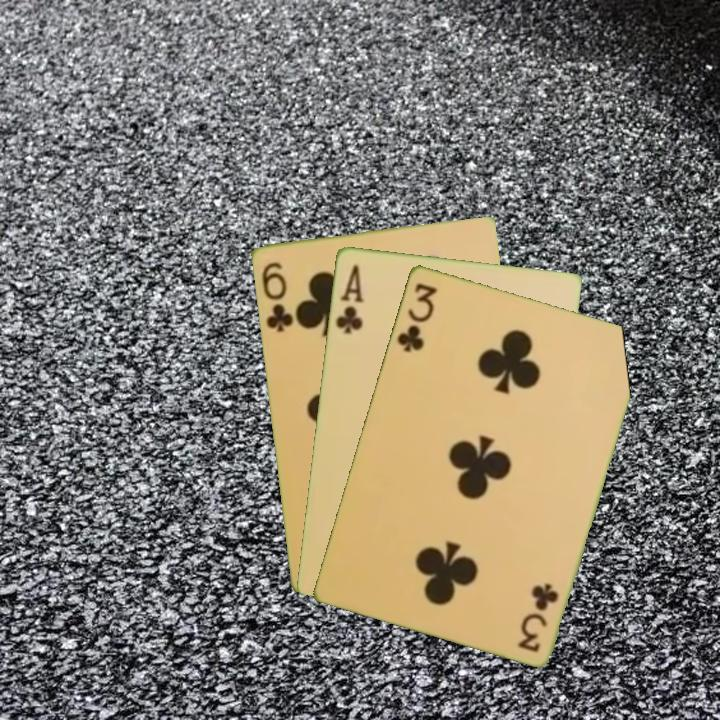3c: (393, 279, 440, 355), (515, 579, 561, 655)
6c: (257, 258, 296, 335)
Ac: (331, 260, 366, 337)
